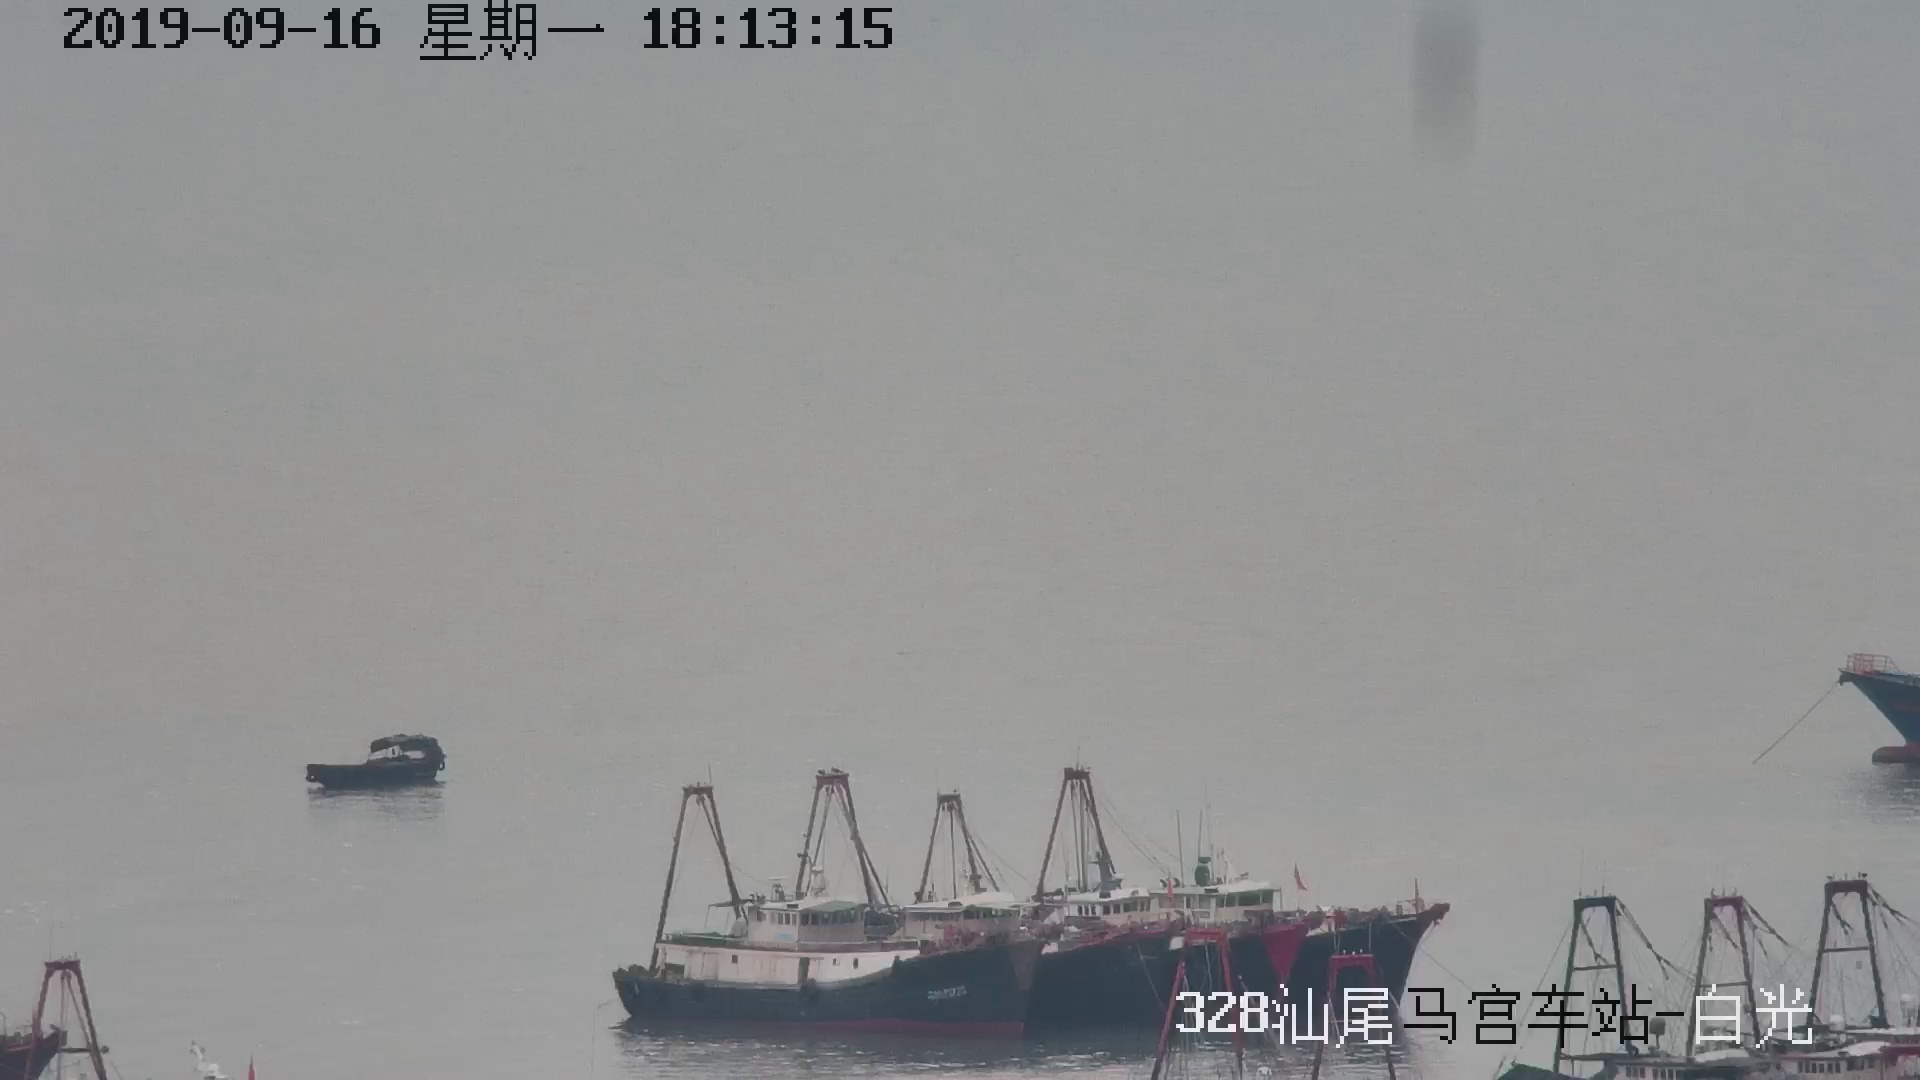ship: (611, 771, 1453, 1046), (303, 725, 444, 800)
